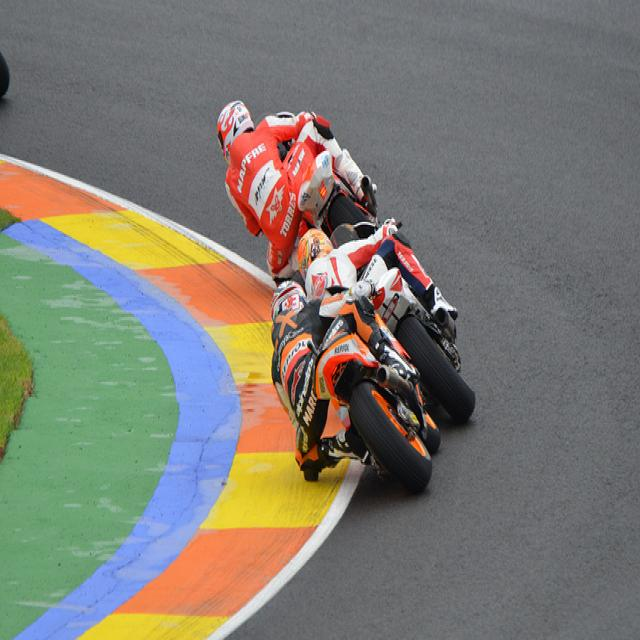motor: (312, 315, 441, 495), (0, 48, 11, 102)
